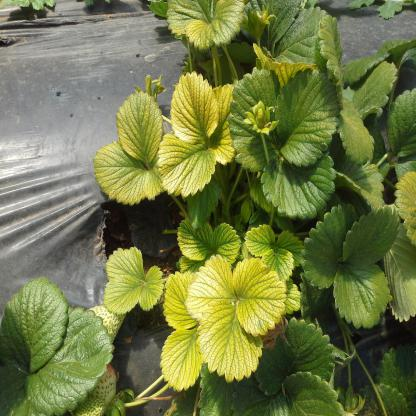Strawberry leaf: (21, 298, 116, 408), (188, 252, 264, 381), (2, 274, 65, 372), (91, 144, 170, 206), (233, 250, 286, 336), (168, 69, 219, 153), (114, 88, 164, 167), (101, 243, 145, 317), (159, 327, 203, 393), (139, 266, 164, 311)
